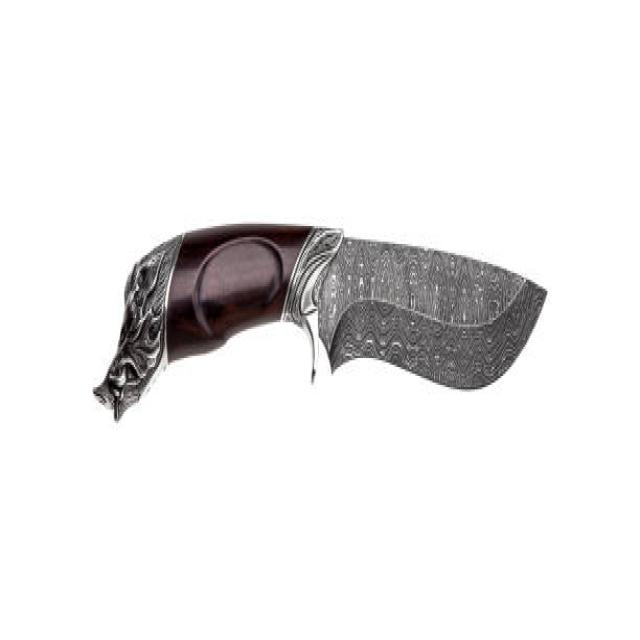knife: (92, 202, 554, 426)
